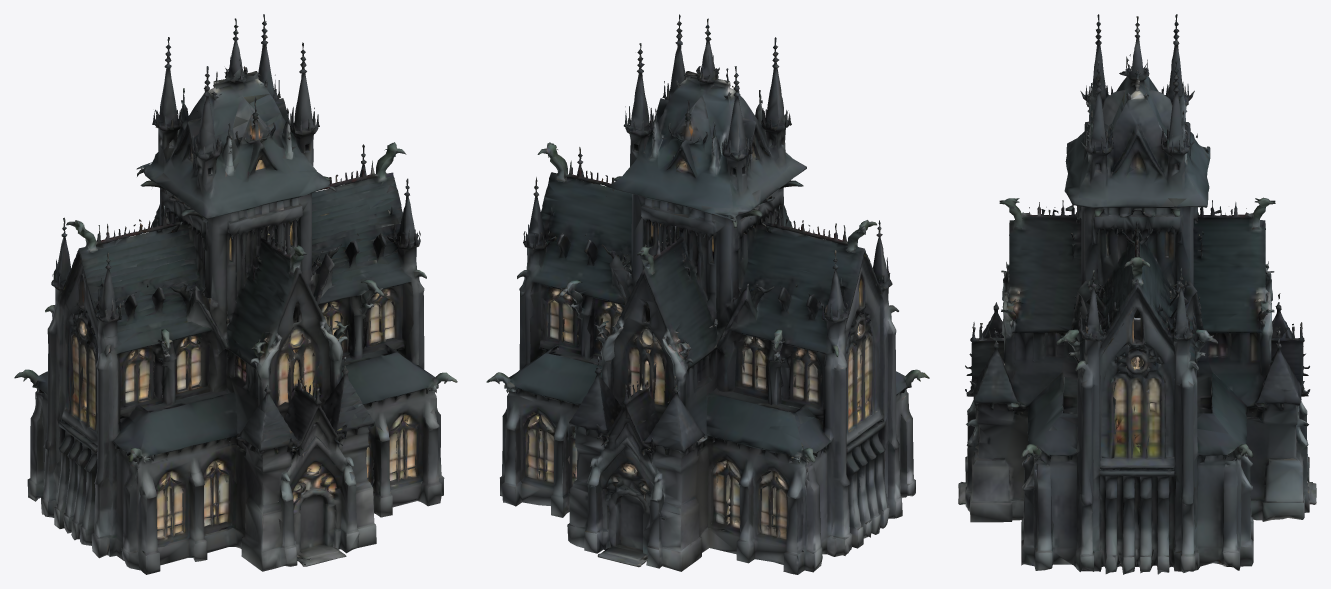
The model's file is Ghotisches_Schloss.glb.
3 views of the same model, side by side, from view 1: azimuth 30°, elevation 25°; view 2: azimuth 150°, elevation 25°; view 3: azimuth 270°, elevation 25° (orthographic).
Visible parts, largest first — view 1: Ghotisches_Schloss; view 2: Ghotisches_Schloss; view 3: Ghotisches_Schloss.
Boxes of the visible parts, x1=… form: Ghotisches_Schloss: x1=14, y1=14, x2=457, y2=574; Ghotisches_Schloss: x1=486, y1=14, x2=929, y2=574; Ghotisches_Schloss: x1=958, y1=14, x2=1316, y2=574.
Size of the model in its own units: 1.39 by 1.9 by 1.29.
Materials: 1 (1 with a texture image).
